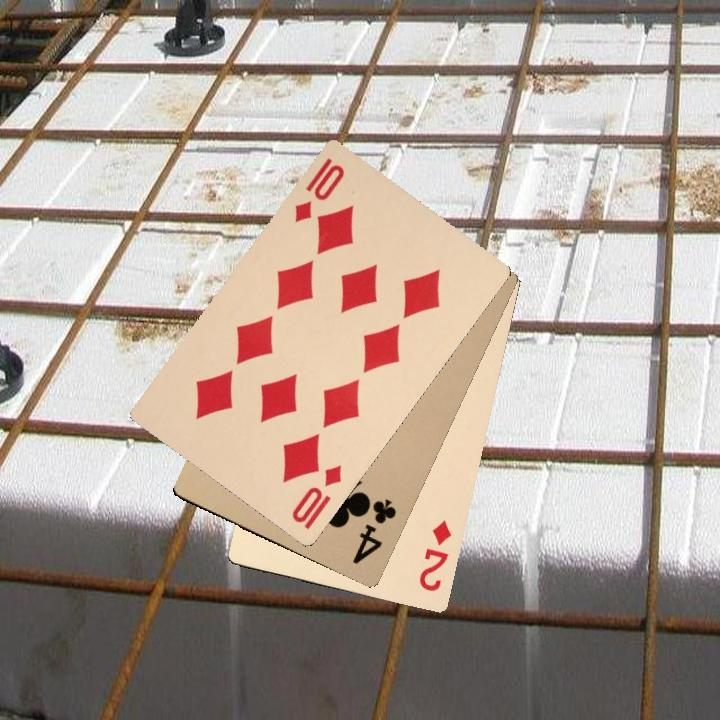10d: (287, 460, 345, 533), (290, 154, 348, 226)
2d: (415, 517, 455, 594)
4c: (348, 495, 399, 567)
